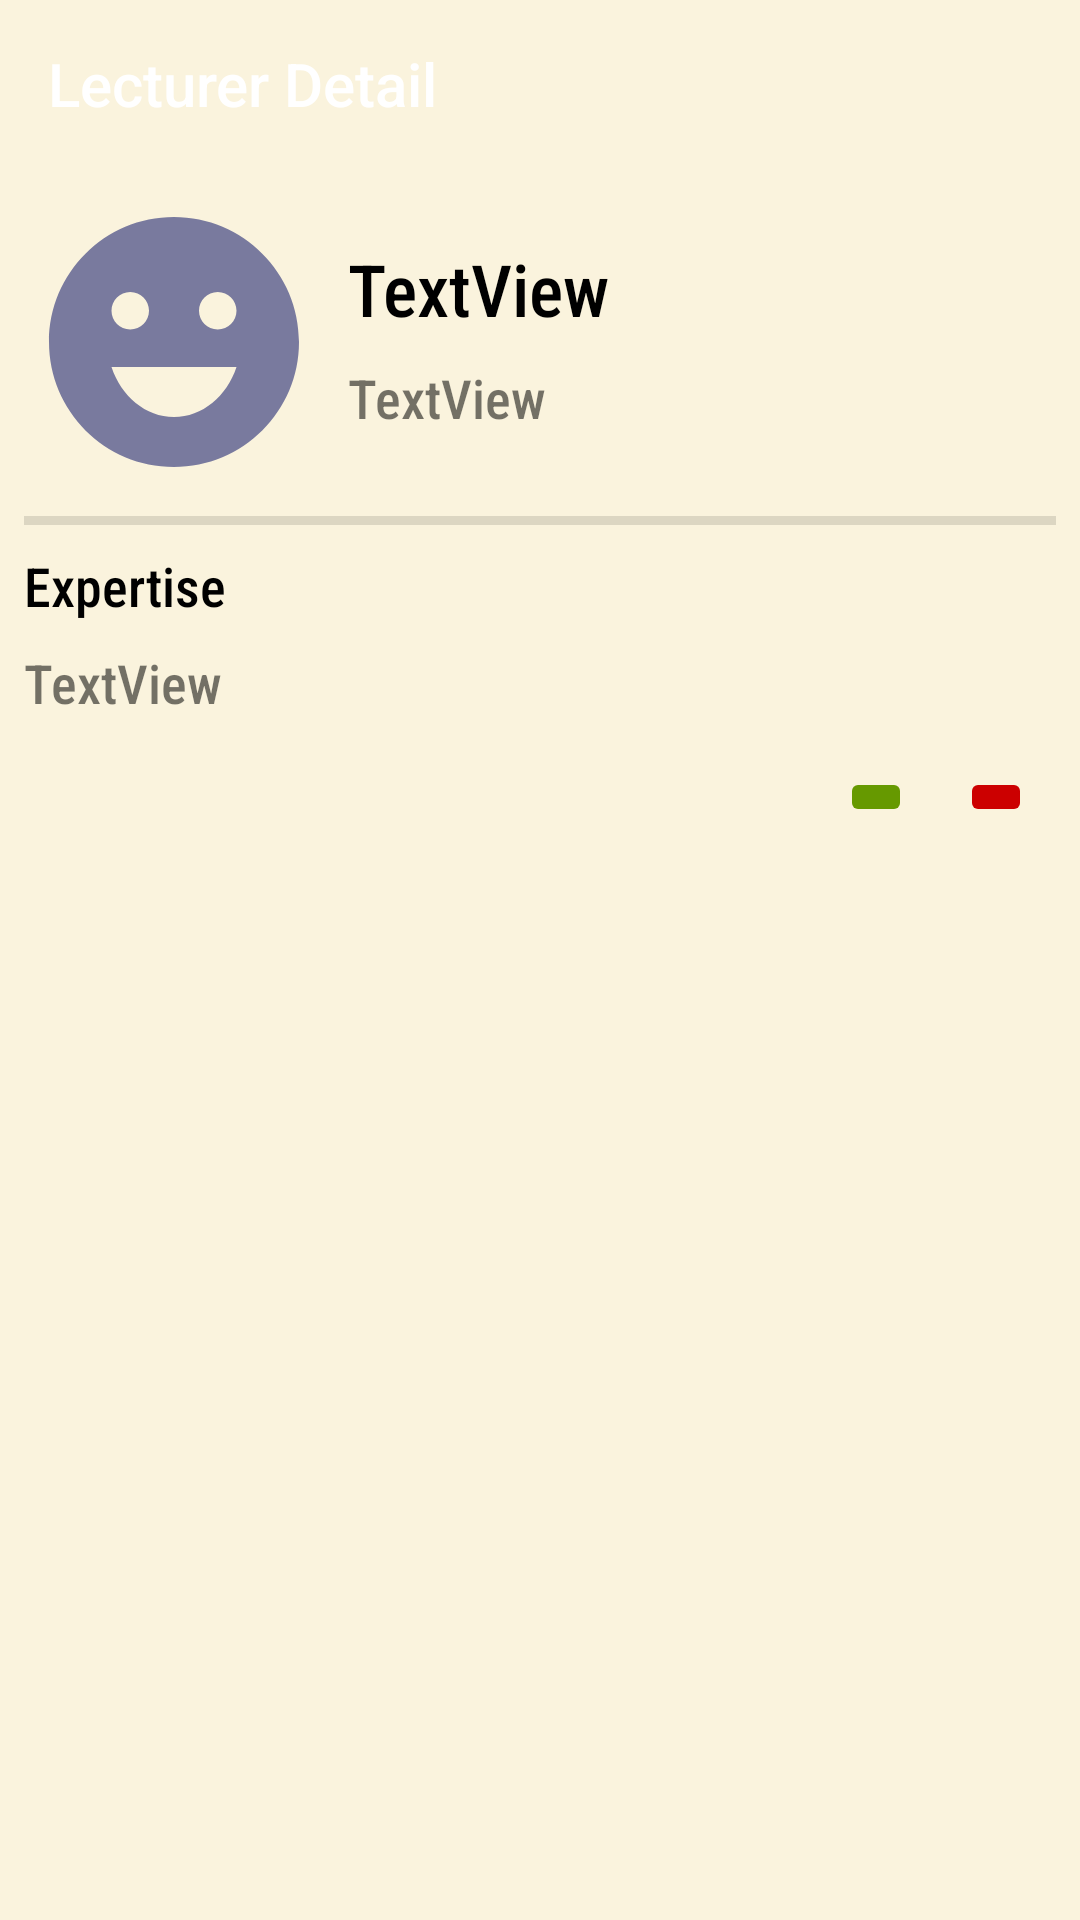

Locate icon controls on the screen. Image size 1080×1920, boxes as (x1, y1, x2, y2).
profile picture: (49, 217, 299, 467)
